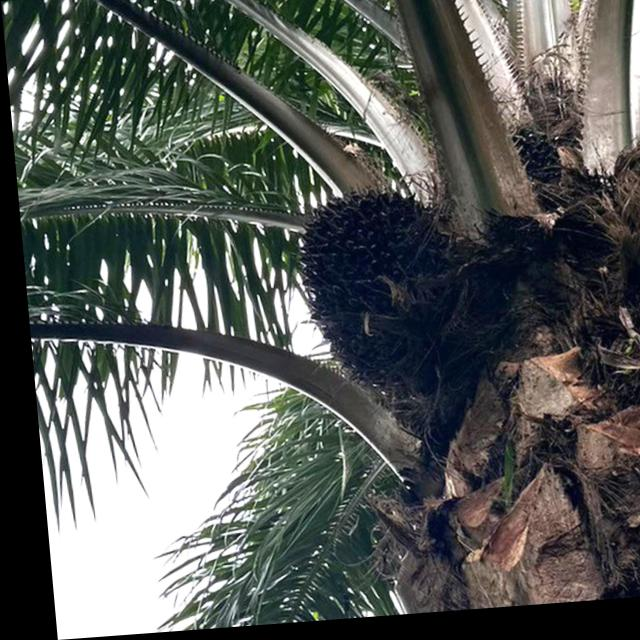ripe: (268, 165, 494, 418)
